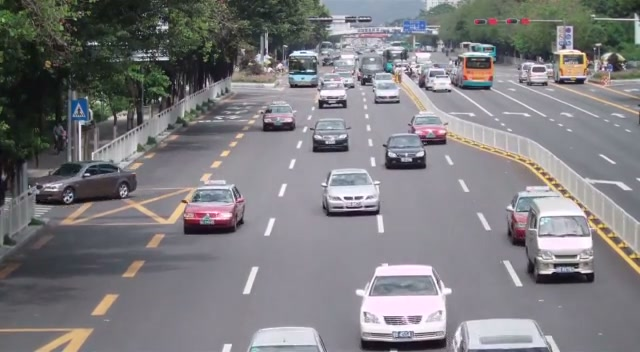bus: (457, 50, 495, 89), (288, 50, 319, 88)
car: (355, 263, 452, 349), (524, 198, 596, 284), (33, 161, 138, 205), (448, 318, 560, 352), (505, 187, 563, 246), (181, 184, 246, 234), (320, 168, 382, 216), (246, 326, 329, 352), (383, 133, 427, 170), (311, 118, 351, 152), (407, 112, 448, 145), (262, 102, 296, 131), (373, 80, 401, 104), (423, 68, 451, 92)
truck: (553, 50, 589, 84), (518, 62, 549, 86)
